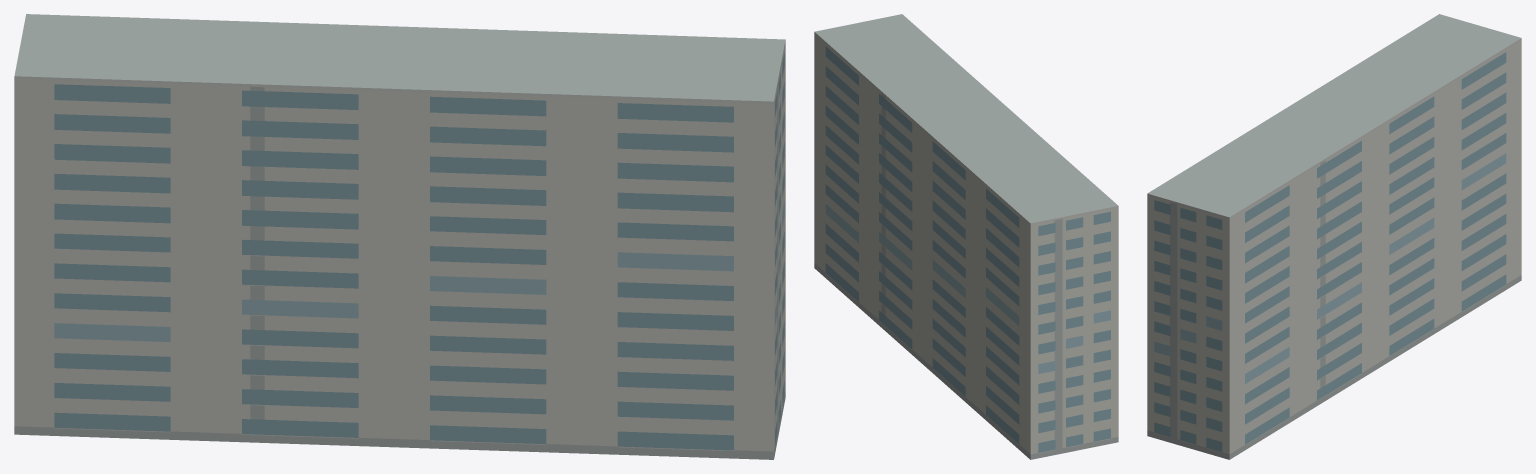
The model's file is residential-b78b5ca6-9711-4ccc-ab0f-78b8e083bd56.glb.
3 views of the same model, side by side, from view 1: azimuth 30°, elevation 25°; view 2: azimuth 150°, elevation 25°; view 3: azimuth 270°, elevation 25° (orthographic). The views are drawn at different scales.
Parts seen in each view (by area): view 1: residential-b78b5ca6-9711-4ccc-ab0f-78b8e083bd56.tmp; view 2: residential-b78b5ca6-9711-4ccc-ab0f-78b8e083bd56.tmp; view 3: residential-b78b5ca6-9711-4ccc-ab0f-78b8e083bd56.tmp.
Part boxes in pixels (x1,y1,x2,y2): residential-b78b5ca6-9711-4ccc-ab0f-78b8e083bd56.tmp: (14, 14, 785, 459); residential-b78b5ca6-9711-4ccc-ab0f-78b8e083bd56.tmp: (814, 14, 1118, 459); residential-b78b5ca6-9711-4ccc-ab0f-78b8e083bd56.tmp: (1147, 14, 1521, 459).
Bounding box in the file's own units: 59.37 × 33 × 46.19.
